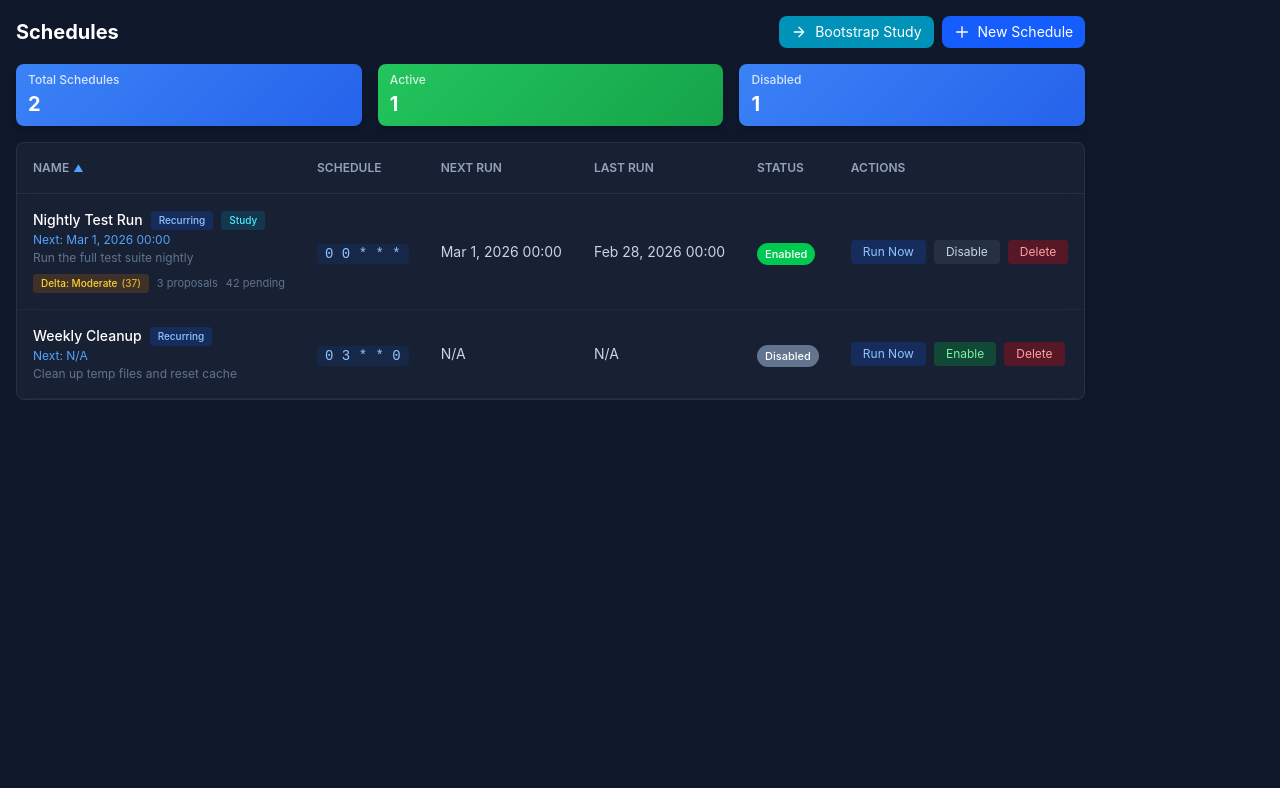
Test: Schedules › hides form after successful create
Click the button "New Schedule".
click(1013, 32)  # box [942, 16, 1085, 48]
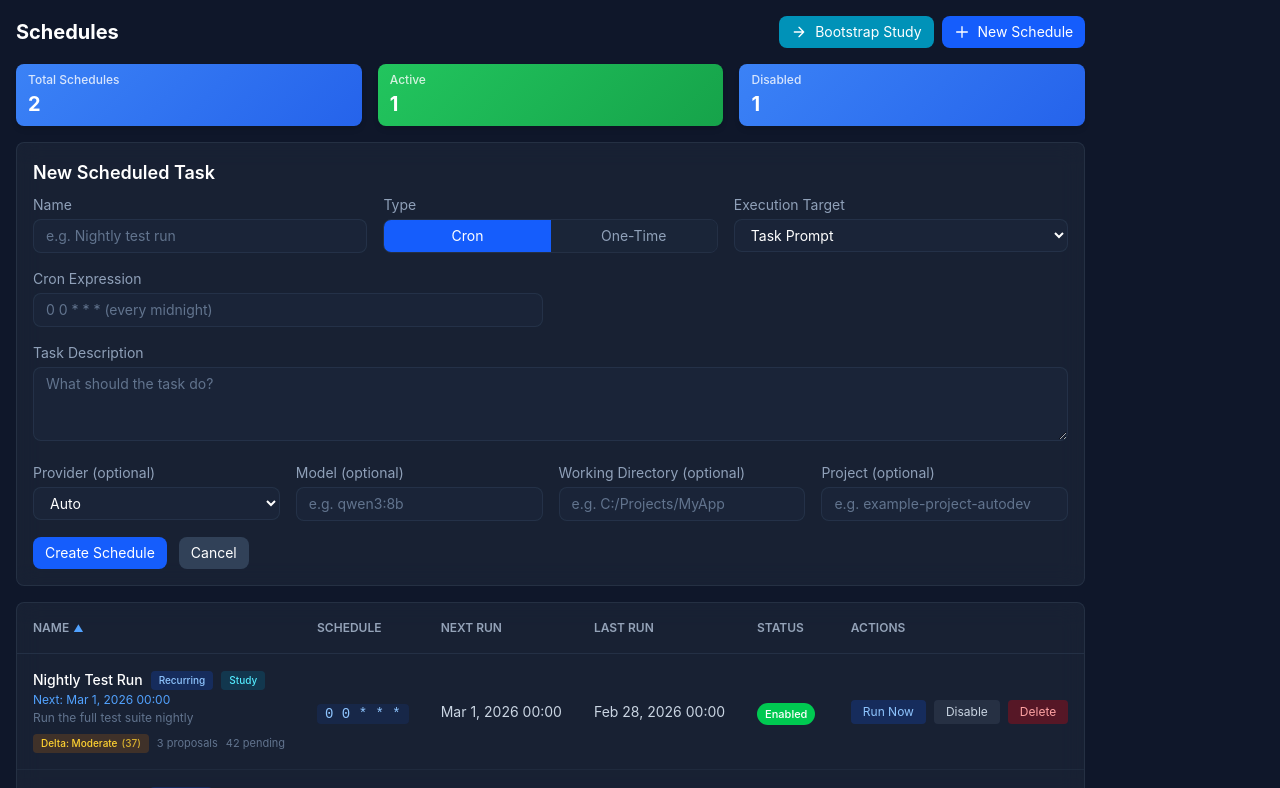
Type "My New Schedule" into the field with placeholder "e.g. Nightly test run".
click(200, 236); type("My New Schedule")  # box [33, 219, 367, 253]
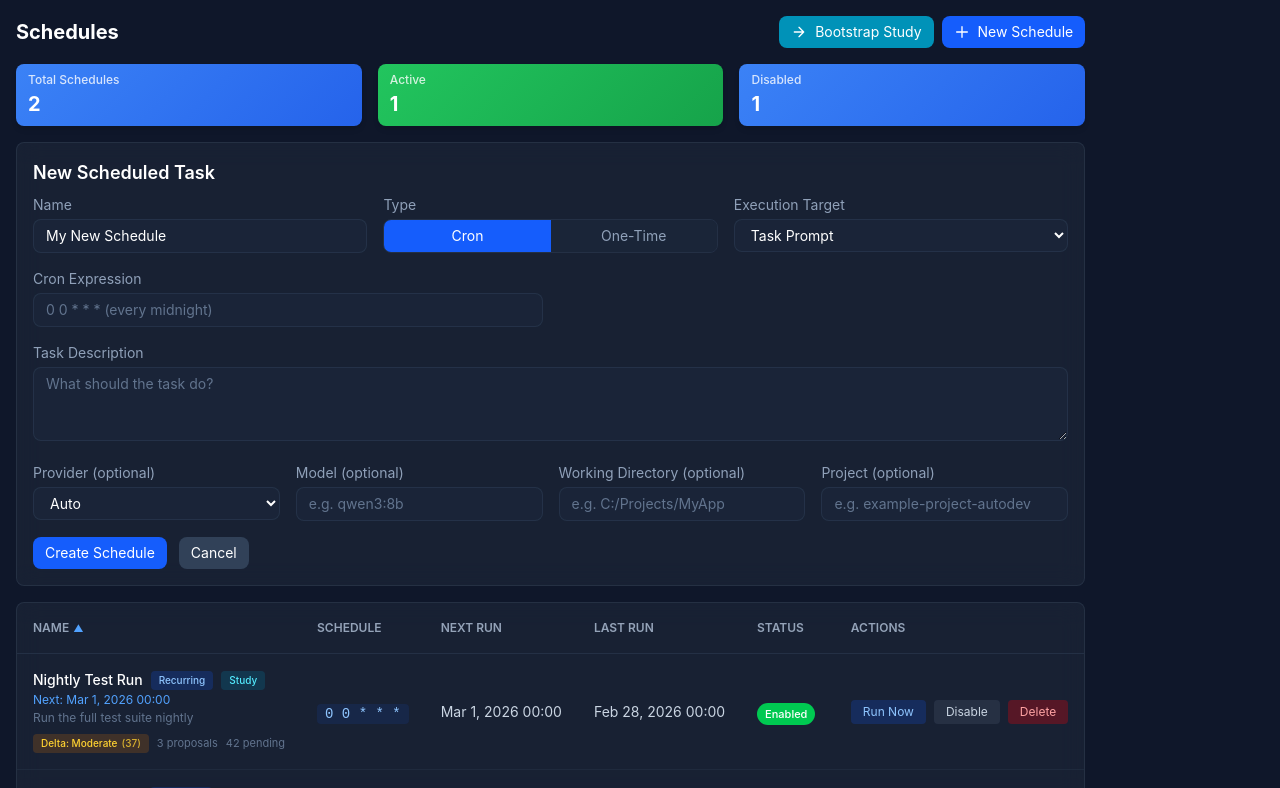
Type "0 6 * * 1" into the field with placeholder "0 0 * * * (every midnight)".
click(288, 310); type("0 6 * * 1")  # box [33, 293, 543, 327]
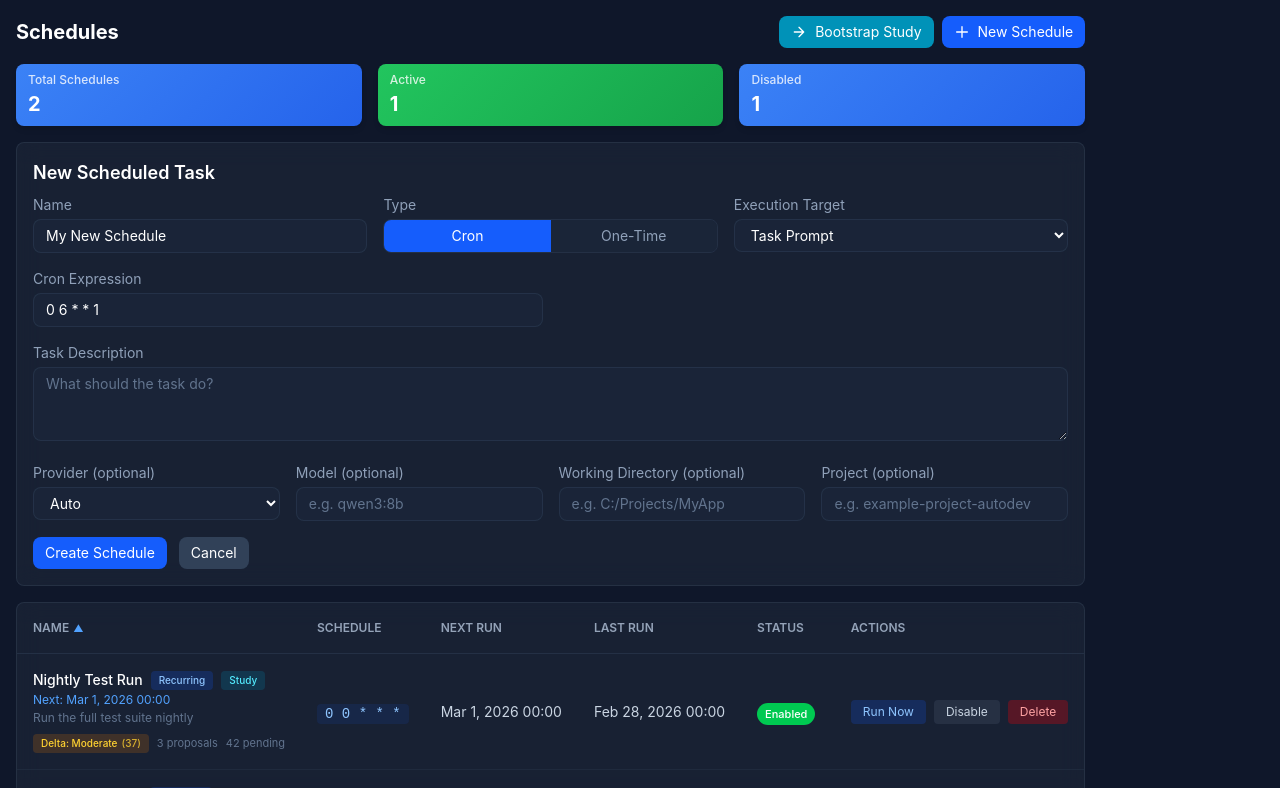
Type "Run weekly build checks" into the text box with placeholder "What should the task do?".
click(551, 404); type("Run weekly build checks")  # box [33, 367, 1068, 441]
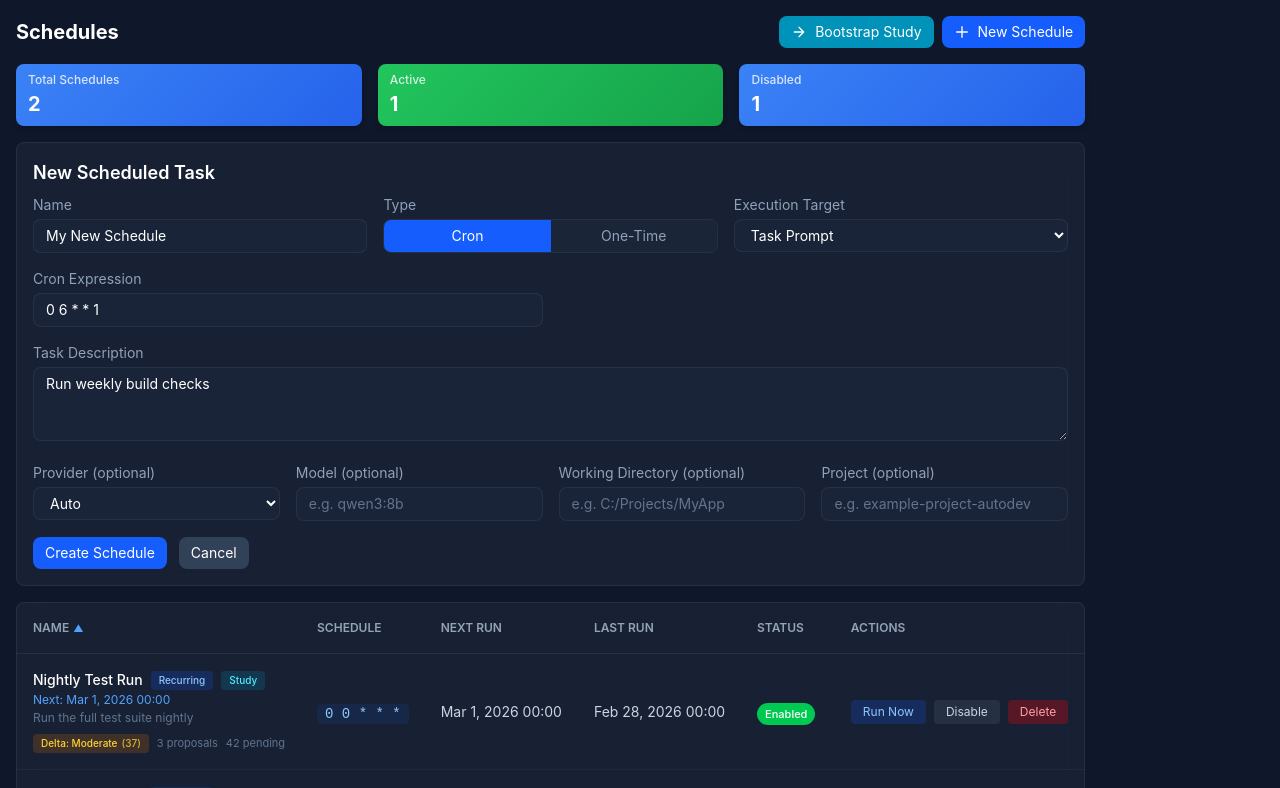
Click the button "Create Schedule".
click(100, 553)  # box [33, 537, 167, 569]
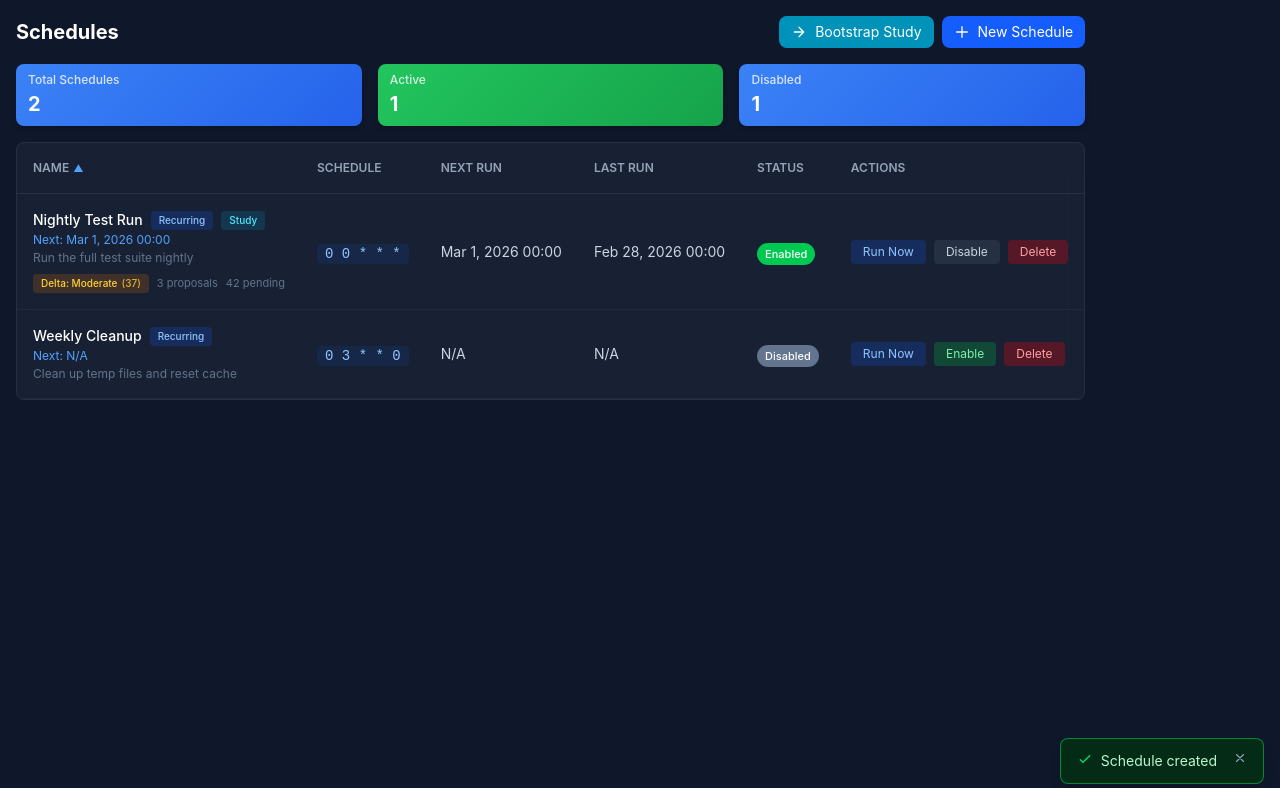
Now the heading "New Scheduled Task" is gone
